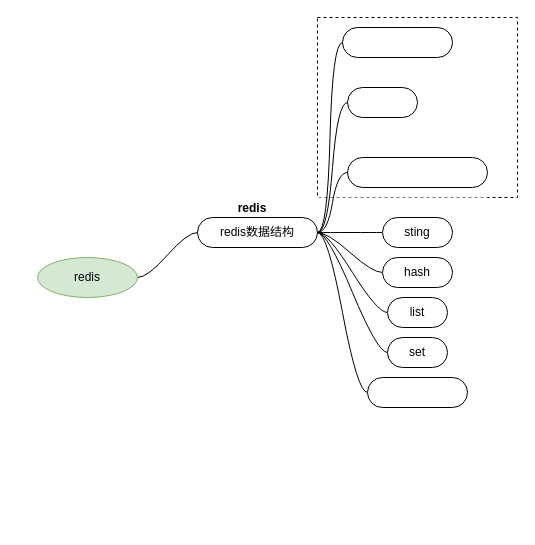
This 535x545 diagram has some shape labels left out. Each missing label, with the centre of its shape:
"Geo" belongs at [382,102].
"HyperLogLog" belongs at [417,172].
"Pub/Sub" belongs at [397,42].
"sortedSet" belongs at [417,392].
